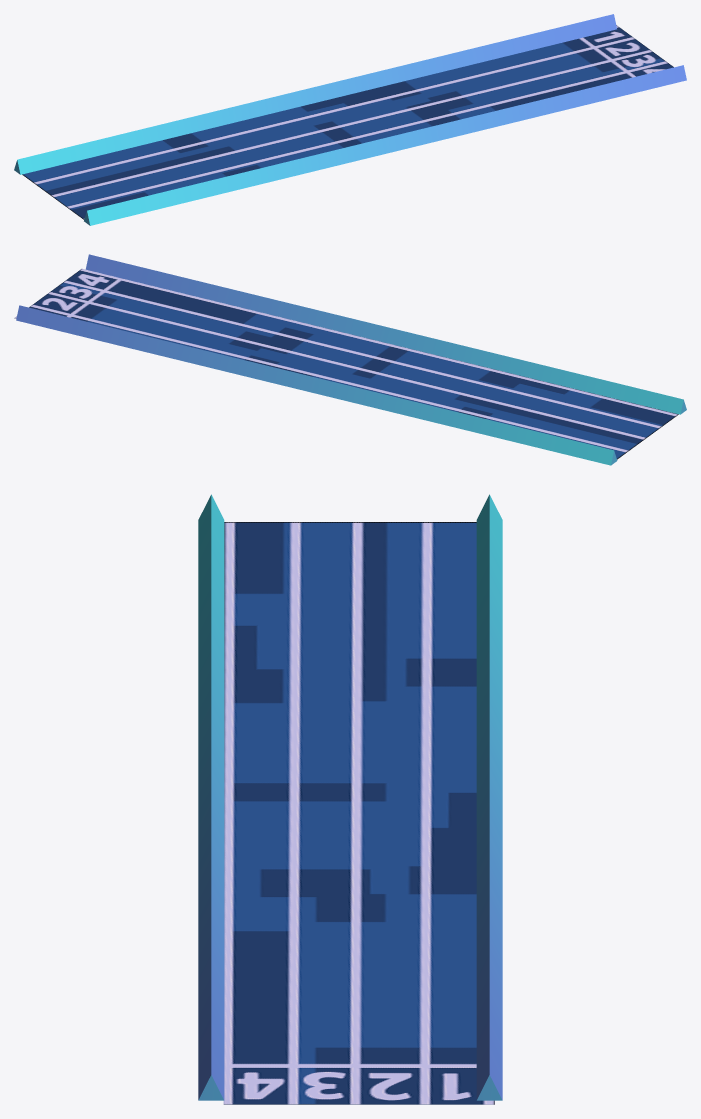
File: running_track.FBX
The picture shows the model from 3 angles, top to bottom: view 1: azimuth 30°, elevation 25°; view 2: azimuth 150°, elevation 25°; view 3: azimuth 270°, elevation 25°; orthographic projection. The views are drawn at different scales.
Visible parts, largest first — view 1: Plane001; view 2: Plane001; view 3: Plane001.
Boxes of the visible parts, box(x1,y1,x2,y2) form: Plane001: box(14, 14, 686, 225); Plane001: box(14, 254, 686, 465); Plane001: box(198, 494, 502, 1104).
Size of the model in its own units: 344 by 7.17 by 75.61.
Materials: 2 (2 with a texture image).
